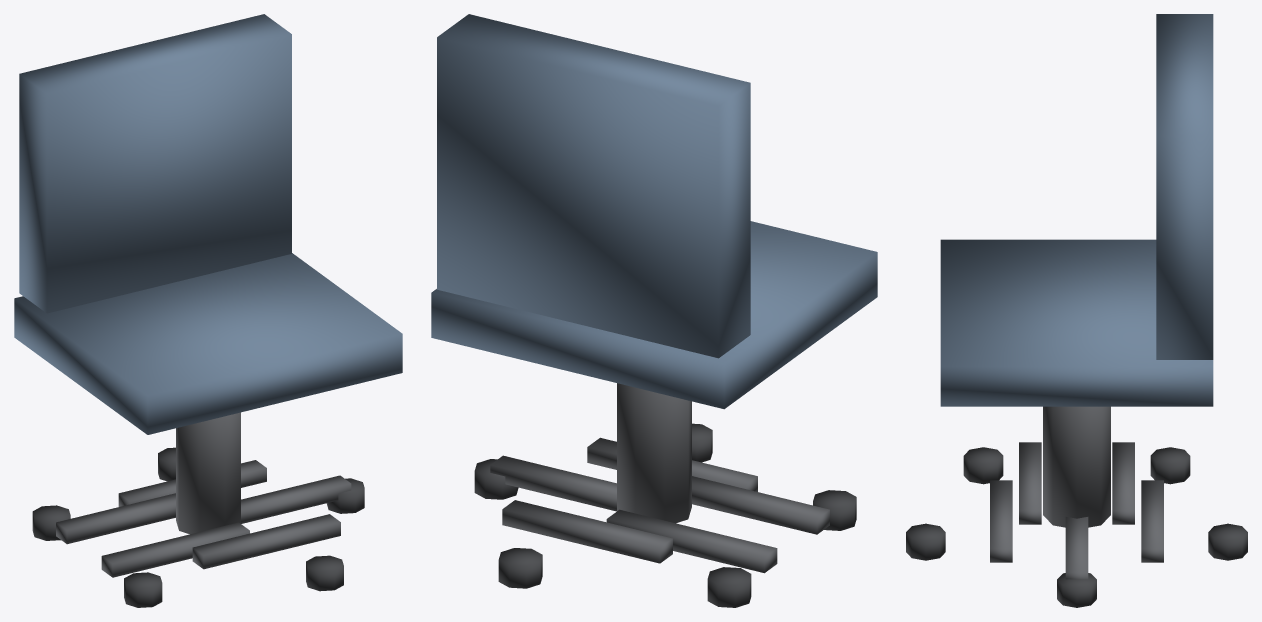
The model's file is office_task_chair__squat.glb.
3 views of the same model, side by side, from view 1: azimuth 30°, elevation 25°; view 2: azimuth 150°, elevation 25°; view 3: azimuth 270°, elevation 25° (orthographic). The views are drawn at different scales.
Visible parts, largest first — view 1: world; view 2: world; view 3: world.
Boxes of the visible parts, <box> form: world: <box>14,14,402,607</box>; world: <box>431,14,877,607</box>; world: <box>906,14,1247,607</box>.
Bounding box in the file's own units: 0.6342 × 0.9576 × 0.6508.
